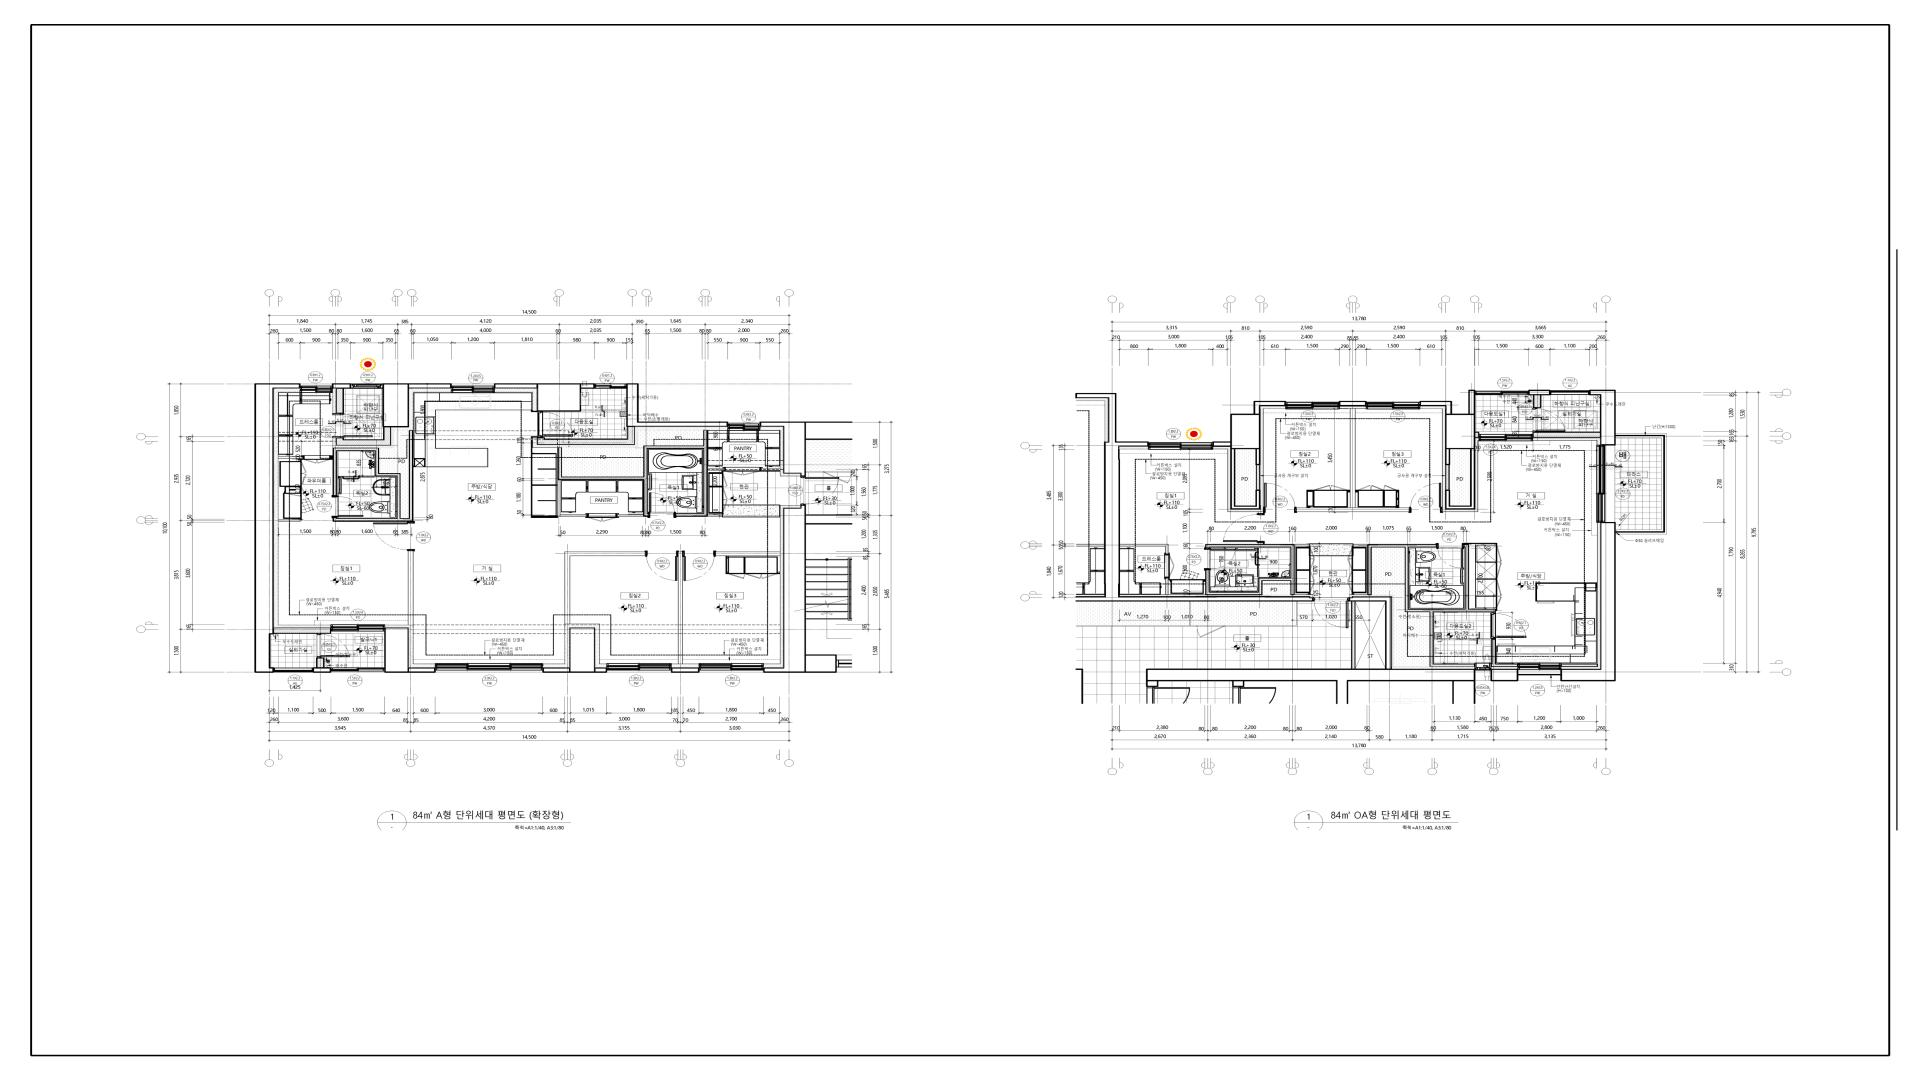door: (373, 522, 415, 551), (1313, 597, 1349, 629), (800, 476, 840, 504), (645, 550, 678, 582), (683, 550, 716, 582), (1410, 483, 1443, 513), (1263, 483, 1296, 513), (332, 413, 372, 438), (1490, 613, 1527, 638), (316, 634, 349, 658), (1532, 407, 1565, 431), (331, 496, 364, 518), (1436, 543, 1465, 568), (1204, 549, 1236, 571), (649, 493, 676, 518), (1197, 626, 1226, 638), (1164, 553, 1175, 580), (724, 467, 762, 472), (585, 513, 620, 518), (302, 455, 332, 460)
wall: (1075, 393, 1313, 601), (1146, 596, 1476, 704), (1367, 545, 1495, 667), (764, 505, 853, 673), (255, 384, 301, 673), (558, 430, 708, 517), (1296, 409, 1410, 512), (1561, 522, 1617, 682), (1213, 401, 1287, 510), (332, 431, 414, 522), (1419, 390, 1476, 509), (564, 551, 645, 624), (760, 422, 853, 477), (1205, 543, 1295, 596), (626, 384, 728, 427), (382, 384, 452, 427), (542, 628, 608, 673), (495, 384, 595, 411), (384, 628, 435, 673), (537, 427, 634, 444), (1589, 390, 1615, 446), (558, 480, 587, 517), (336, 427, 392, 446), (1491, 640, 1518, 667), (678, 551, 683, 663), (1120, 545, 1168, 554), (1532, 431, 1600, 438), (407, 551, 413, 625), (274, 628, 331, 634), (1490, 669, 1518, 682), (716, 551, 781, 556), (336, 389, 344, 413), (671, 667, 700, 673), (1561, 663, 1598, 667), (1340, 401, 1366, 406), (1445, 465, 1451, 489), (1528, 390, 1551, 396), (1532, 396, 1542, 407), (332, 384, 351, 389), (313, 667, 331, 673), (1257, 465, 1261, 489), (316, 658, 324, 667), (762, 468, 781, 472), (617, 514, 644, 517), (278, 456, 302, 459), (278, 520, 301, 522), (1166, 578, 1168, 595), (708, 468, 724, 471), (1476, 431, 1480, 438), (1295, 545, 1309, 546), (1353, 545, 1367, 546)
window: (1597, 446, 1615, 522), (435, 663, 543, 673), (699, 663, 764, 673), (608, 663, 671, 673), (331, 624, 384, 634), (1149, 442, 1213, 450), (1366, 402, 1420, 410), (1480, 434, 1532, 442), (1287, 401, 1338, 409), (452, 384, 495, 393), (728, 422, 760, 431), (301, 384, 332, 393), (1518, 663, 1561, 670), (331, 667, 384, 673), (1476, 390, 1528, 396), (274, 667, 313, 673), (351, 384, 382, 389), (595, 384, 626, 389), (1551, 390, 1589, 394)
